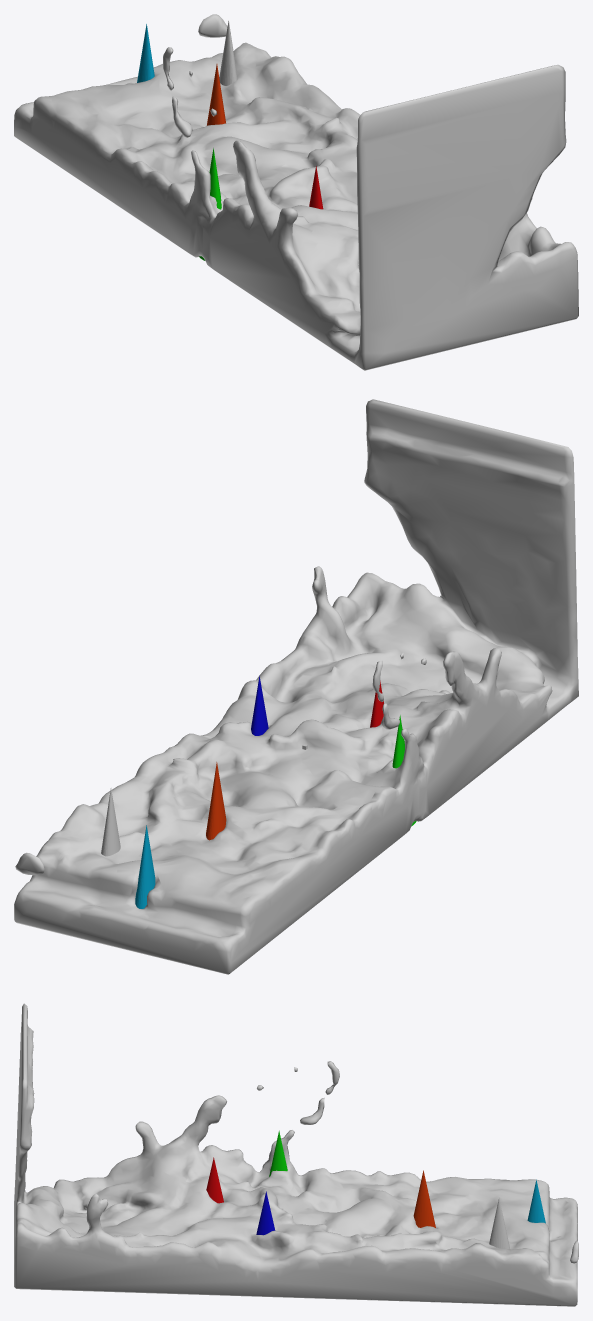
The picture shows the model from 3 angles, top to bottom: view 1: azimuth 30°, elevation 25°; view 2: azimuth 150°, elevation 25°; view 3: azimuth 270°, elevation 25°; orthographic projection. The views are drawn at different scales.
Parts seen in each view (by area): view 1: Liquid_Domain, 円錐, 円錐.004, 円錐.005; view 2: Liquid_Domain, 円錐.005, 円錐.004, 円錐; view 3: Liquid_Domain, 円錐.004, 円錐, 円錐.002, 円錐.001, 円錐.005, 円錐.003.
Boxes of the visible parts, x1,y1,x2,y2 form: Liquid_Domain: (14,14,578,370); 円錐: (219,20,237,85); 円錐.004: (207,64,225,125); 円錐.005: (137,24,154,82); Liquid_Domain: (14,399,578,974); 円錐.005: (135,825,155,908); 円錐.004: (206,762,226,840); 円錐: (101,788,120,856); Liquid_Domain: (14,1003,578,1306); 円錐.004: (413,1170,435,1227); 円錐: (489,1197,509,1248); 円錐.002: (256,1191,275,1235); 円錐.001: (206,1157,223,1203); 円錐.005: (527,1179,545,1223); 円錐.003: (269,1130,287,1176).
Bounding box in the file's own units: 129 × 158 × 362.
